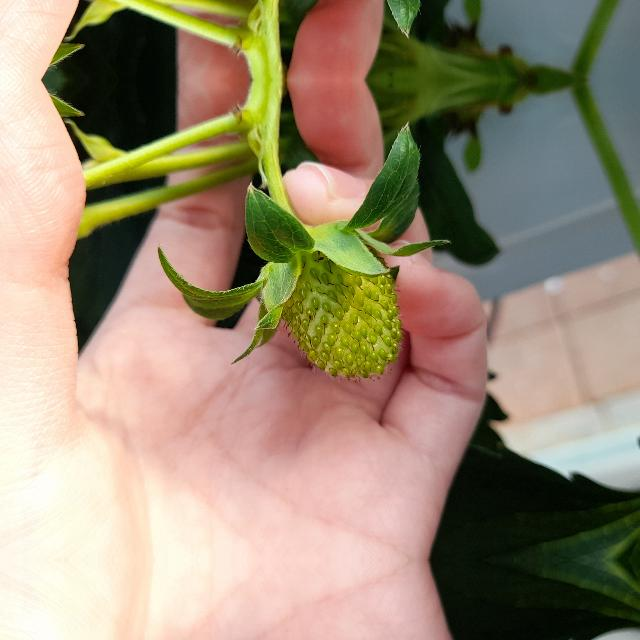Health_25: (280, 249, 402, 381)
